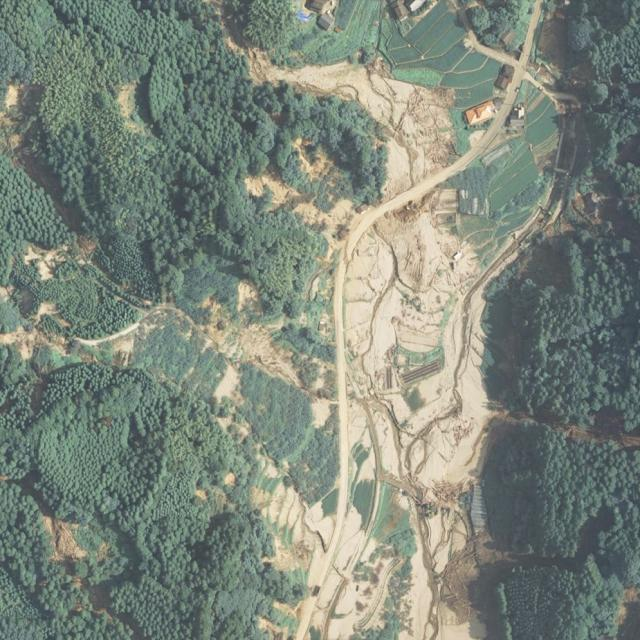landslide: (259, 50, 573, 640)
